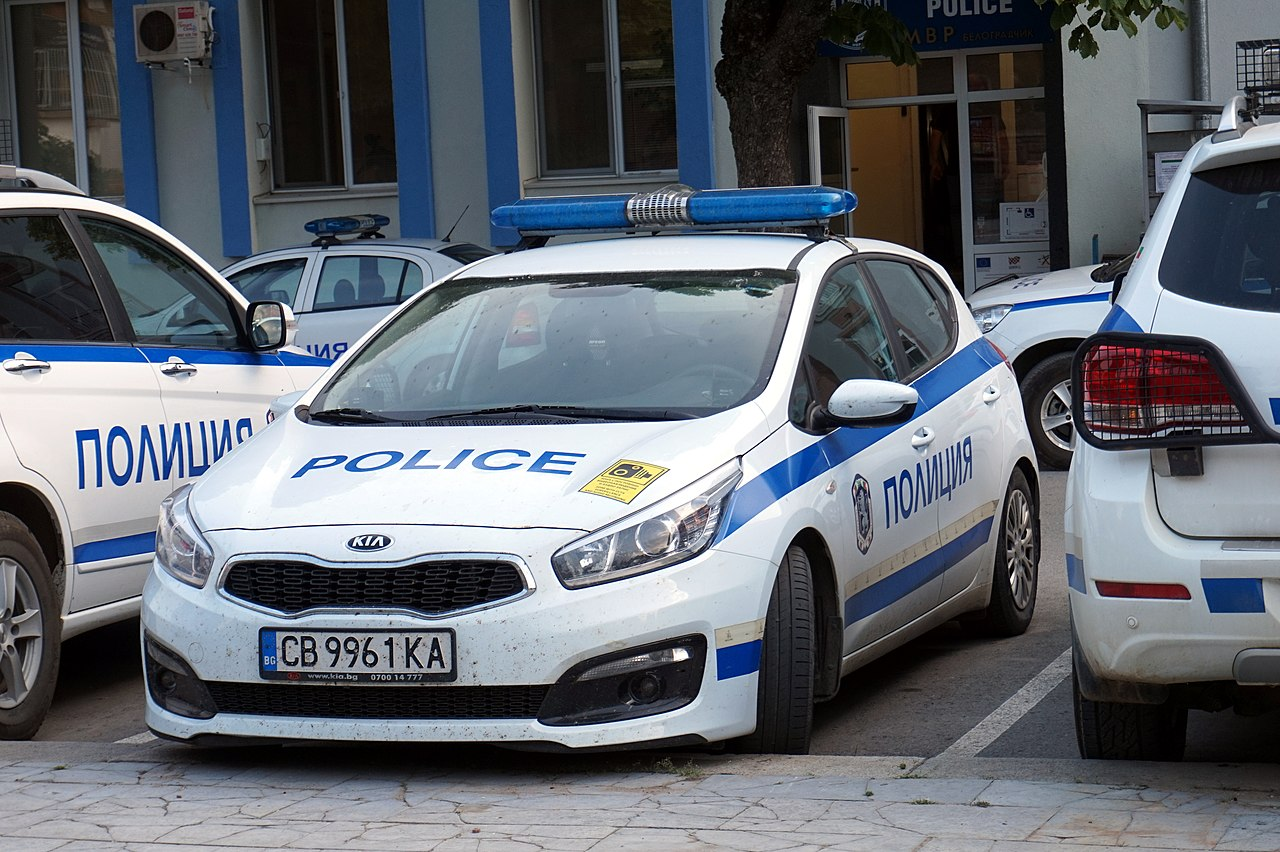plate: (257, 626, 458, 685)
